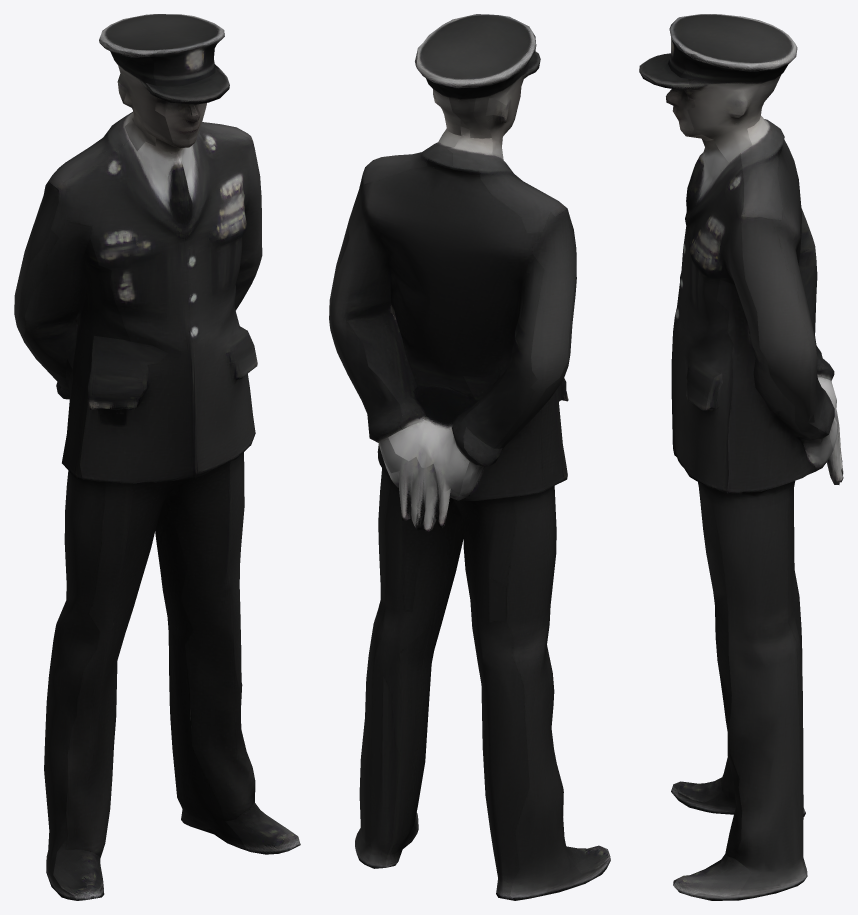
File: officer.glb
3 renders of one model, left to right at view 1: azimuth 30°, elevation 25°; view 2: azimuth 150°, elevation 25°; view 3: azimuth 270°, elevation 25°, orthographic. The views are drawn at different scales.
Parts seen in each view (by area): view 1: geometry_0; view 2: geometry_0; view 3: geometry_0.
Part boxes in pixels (x1=…): geometry_0: x1=14, y1=14, x2=300, y2=900; geometry_0: x1=329, y1=14, x2=610, y2=900; geometry_0: x1=639, y1=14, x2=843, y2=900.
Bounding box in the file's own units: 0.2948 × 0.9931 × 0.2249.
1 material, 1 textured.
